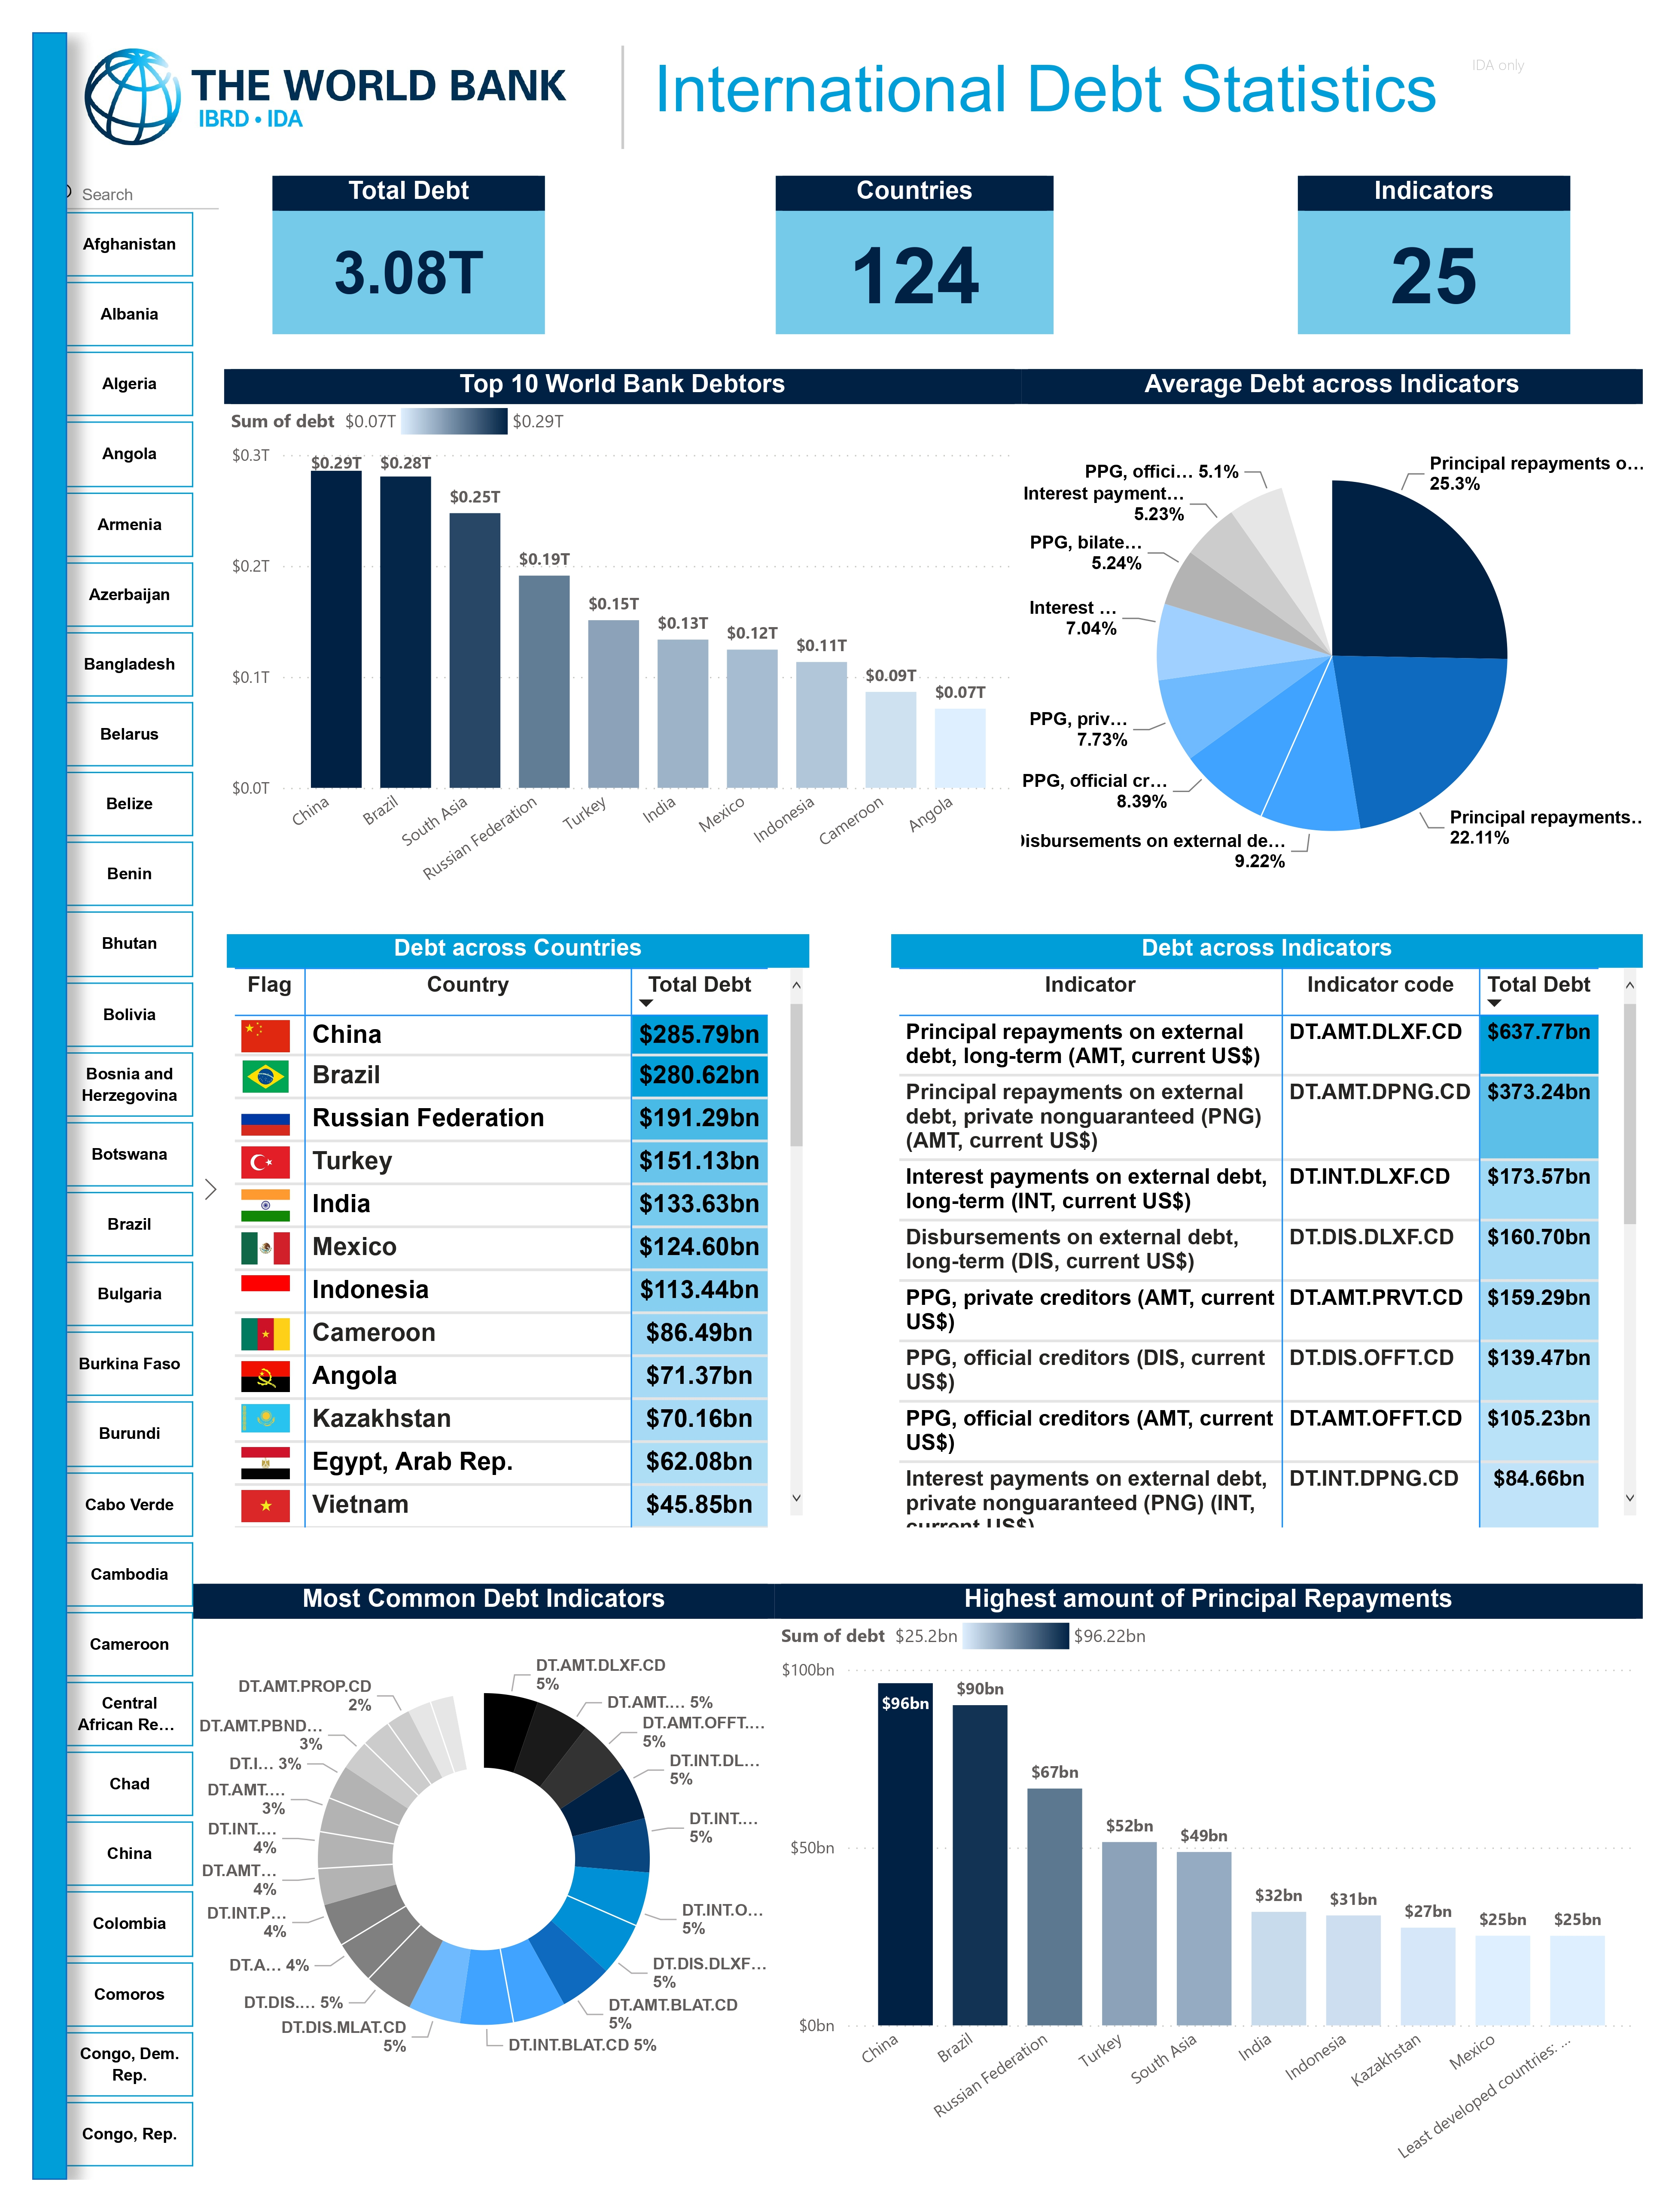

This screenshot's page, from the dashboard's own definition file:
{"tool":"powerbi","page":{"name":"Main","canvas":[1200,1600],"ordinal":0},"visuals":[{"type":"image","box":[33.7,0,373.5,96.4],"z":0},{"type":"shape","box":[421.7,9.6,36.1,77.1],"z":1000},{"type":"textbox","box":[457.8,9.6,765.1,67.5],"z":2000},{"type":"slicer","fields":{"Values":["IDS_AllCountries_Data.country_name"]},"box":[0,105.9,144.1,1494.1],"z":3000},{"type":"shape","box":[0,0,26.5,1600],"z":4000},{"type":"card","title":"Total Debt","fields":{"Values":["IDS_AllCountries_Data.Total Debt"]},"box":[178.6,107.1,203.6,117.9],"z":5000},{"type":"tableEx","title":"Debt across Countries ","fields":{"Values":["IDS_CountryFlag_LookUp.Country Flag","IDS_AllCountries_Data.country_name","Sum(IDS_AllCountries_Data.debt)"]},"box":[144.8,672.4,434.5,446.6],"z":6000},{"type":"tableEx","title":"Debt across Indicators ","fields":{"Values":["IDS_AllCountries_Data.indicator_name","IDS_AllCountries_Data.indicator_code","Sum(IDS_AllCountries_Data.debt)"]},"box":[639.7,672.4,560.3,446.6],"z":7000},{"type":"card","title":"Countries","fields":{"Values":["Count(IDS_AllCountries_Data.country_name)"]},"box":[553.6,107.1,207.1,117.9],"z":8000},{"type":"card","title":"Indicators","fields":{"Values":["Count(IDS_AllCountries_Data.indicator_name)"]},"box":[942.9,107.1,203.6,117.9],"z":9000},{"type":"columnChart","title":"Top 10 World Bank Debtors","fields":{"Category":["IDS_AllCountries_Data.country_name"],"Y":["Sum(IDS_AllCountries_Data.debt)"]},"box":[142.9,251.4,594.3,405.7],"z":10000},{"type":"columnChart","title":"Highest amount of Principal Repayments","fields":{"Category":["Principal_repayments.country_name"],"Y":["Sum(Principal_repayments.debt)"]},"box":[553.1,1156.2,646.9,443.8],"z":11000},{"type":"pieChart","title":"Average Debt across Indicators","fields":{"Y":["Avg(IDS_AllCountries_Data.debt)"],"Category":["IDS_AllCountries_Data.indicator_name"]},"box":[737.1,251.4,462.9,405.7],"z":12000},{"type":"donutChart","title":"Most Common Debt Indicators","fields":{"Category":["IDS_AllCountries_Data.indicator_code"],"Y":["CountNonNull(IDS_AllCountries_Data.indicator_code)"]},"box":[120.3,1156.2,432.8,389.1],"z":13000},{"type":"simpleImageEBC4593F96F1425FB3D84C5BF02B5075","fields":{"imageURL":["IDS_CountryFlag_LookUp.Country Flag"],"altText":["IDS_AllCountries_Data.country_name"]},"box":[1067.6,0,132.4,97.1],"z":14000}]}

Visuals, with their boxes in screenshot pixels (x1, y1, x2, y2):
image: [69, 58, 578, 189]
shape: [598, 71, 647, 176]
textbox: [647, 71, 1675, 163]
slicer - IDS_AllCountries_Data.country_name: [23, 202, 219, 2212]
shape: [23, 58, 59, 2212]
"Total Debt" card: [267, 204, 544, 364]
"Debt across Countries " tableEx: [220, 974, 813, 1583]
"Debt across Indicators " tableEx: [895, 974, 1659, 1583]
"Countries" card: [778, 204, 1060, 364]
"Indicators" card: [1309, 204, 1586, 364]
"Top 10 World Bank Debtors" columnChart: [218, 400, 1028, 954]
"Highest amount of Principal Repayments" columnChart: [777, 1634, 1659, 2212]
"Average Debt across Indicators" pieChart: [1028, 400, 1659, 954]
"Most Common Debt Indicators" donutChart: [187, 1634, 777, 2164]
simpleImageEBC4593F96F1425FB3D84C5BF02B5075 - IDS_CountryFlag_LookUp.Country Flag x IDS_AllCountries_Data.country_name: [1478, 58, 1659, 190]
